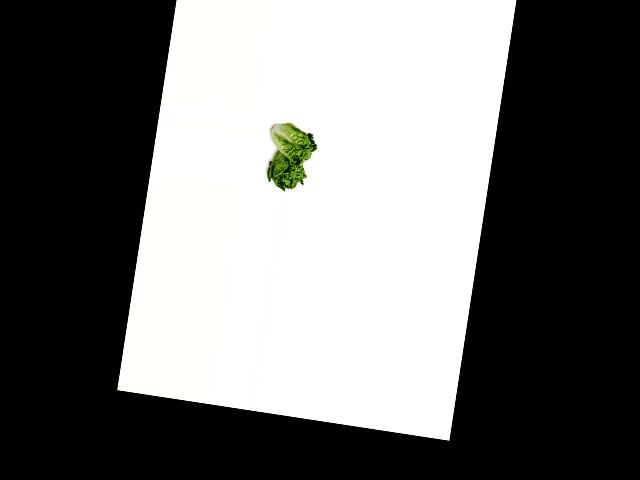lettuce: (259, 145, 310, 193)
